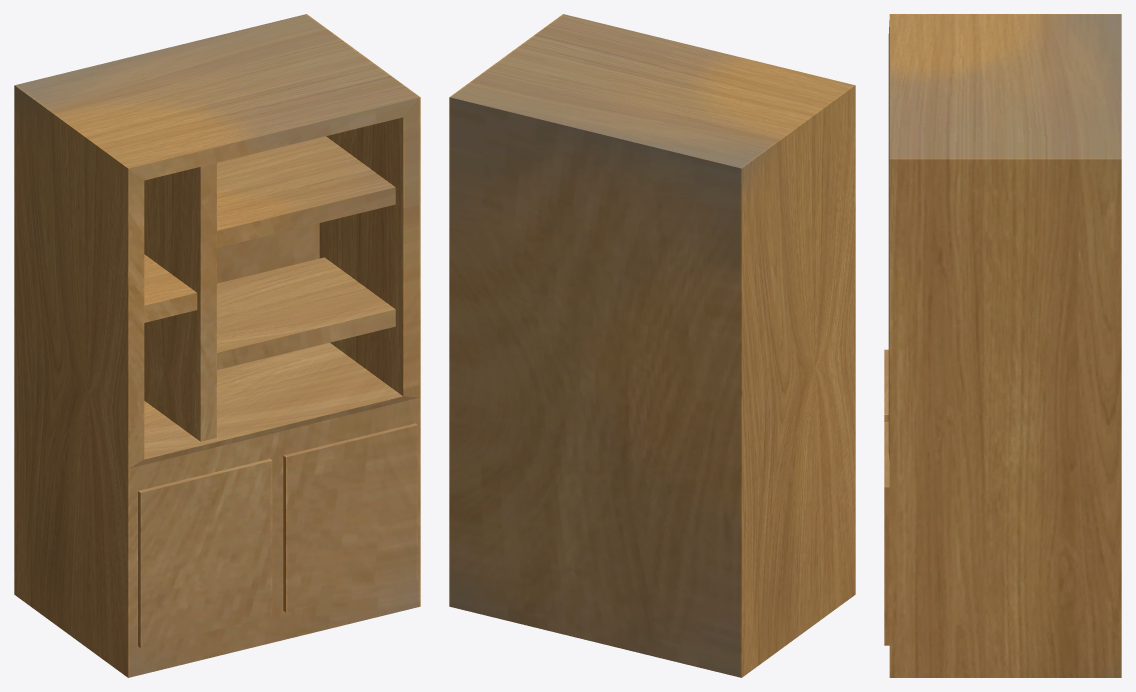
The model's file is Bookcase.fbx.
The picture shows the model from 3 angles, left to right: view 1: azimuth 30°, elevation 25°; view 2: azimuth 150°, elevation 25°; view 3: azimuth 270°, elevation 25°; orthographic projection.
Visible parts, largest first — view 1: node_id5; view 2: node_id5; view 3: node_id5.
Boxes of the visible parts, <box> form: node_id5: <box>14,14,420,677</box>; node_id5: <box>449,14,855,677</box>; node_id5: <box>884,14,1121,677</box>.
Size of the model in its own units: 0.3075 by 0.512 by 0.212.
1 material, 1 textured.
